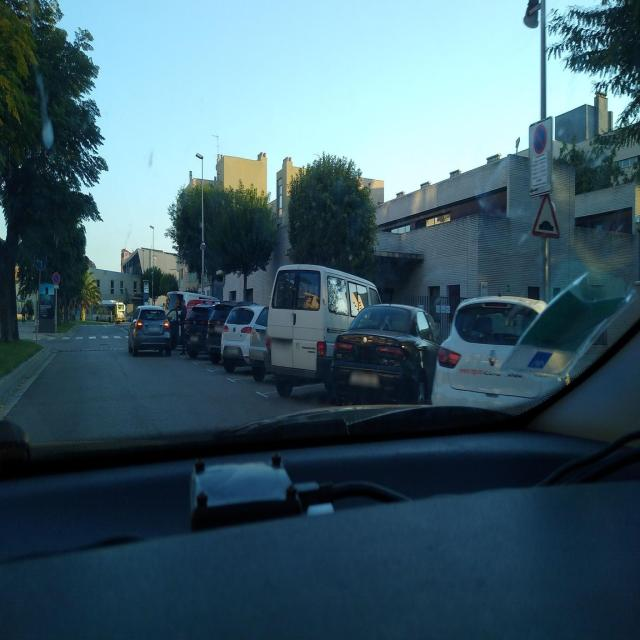forb_stopping: (52, 272, 60, 286)
